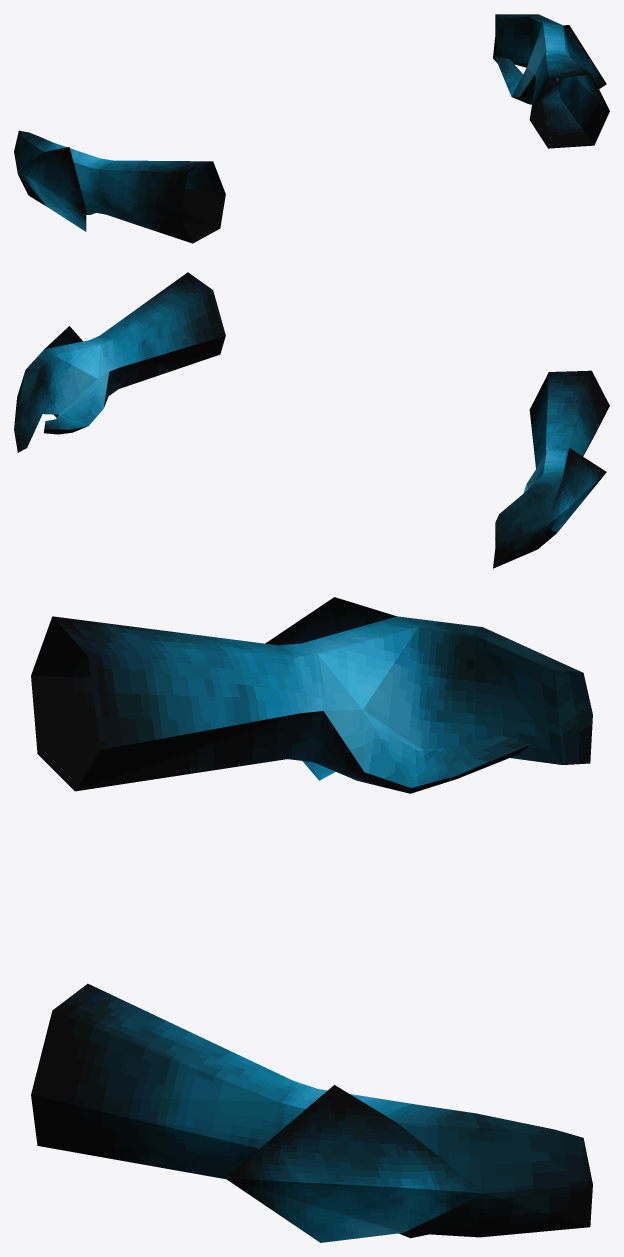
The model's file is taoist_glove_male_38120.obj.
3 renders of one model, top to bottom at view 1: azimuth 30°, elevation 25°; view 2: azimuth 150°, elevation 25°; view 3: azimuth 270°, elevation 25°, orthographic. The views are drawn at different scales.
Visible parts, largest first — view 1: taoist_glove_male_38010; view 2: taoist_glove_male_38010; view 3: taoist_glove_male_38010.
Boxes of the visible parts, bbox=[...] form: taoist_glove_male_38010: bbox=[14, 14, 609, 243]; taoist_glove_male_38010: bbox=[14, 272, 609, 568]; taoist_glove_male_38010: bbox=[31, 597, 592, 1242].
Size of the model in its own units: 44.29 by 8.03 by 20.18.
